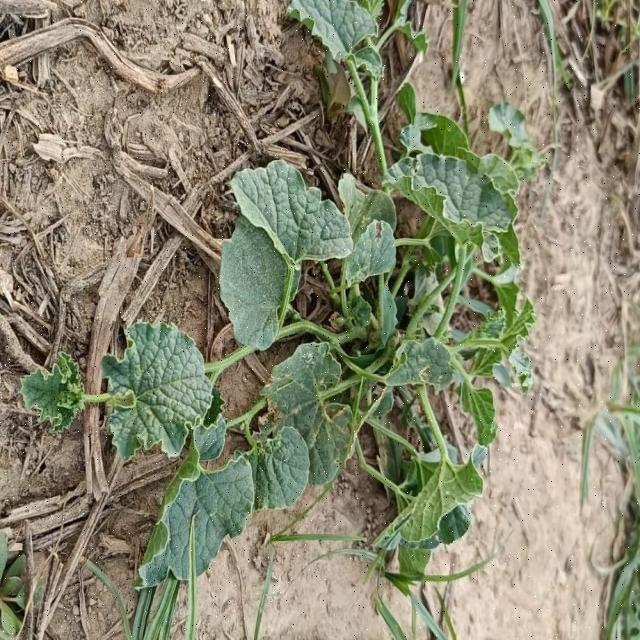plant: (21, 0, 540, 637)
